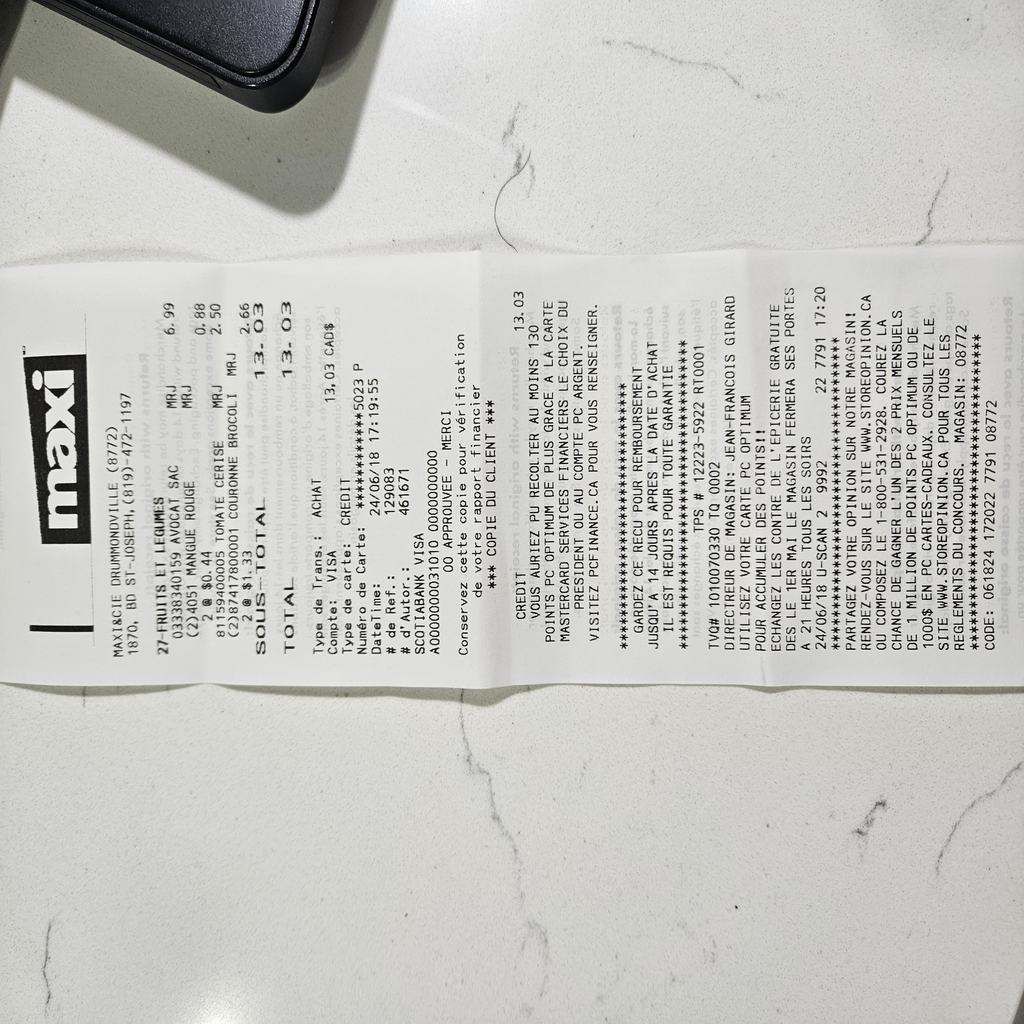recipt: (4, 245, 1018, 690)
